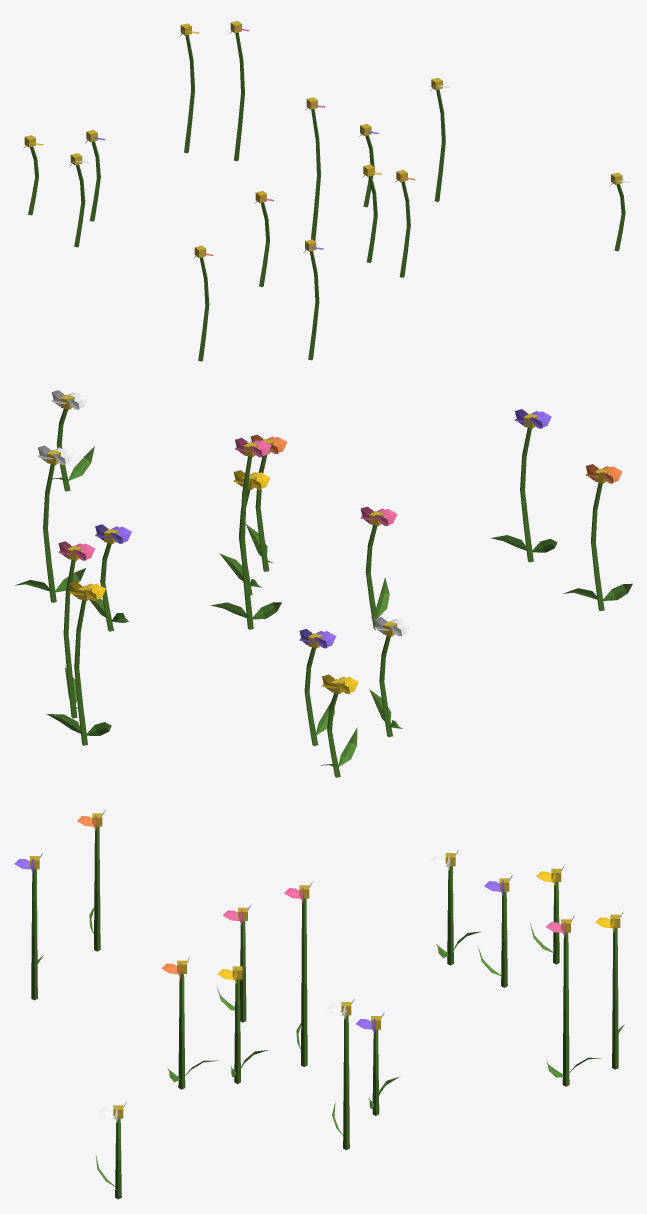
The model's file is flowers.glb.
3 renders of one model, top to bottom at view 1: azimuth 30°, elevation 25°; view 2: azimuth 150°, elevation 25°; view 3: azimuth 270°, elevation 25°, orthographic. The views are drawn at different scales.
Visible parts, largest first — view 1: flowers_stem, flowers_petal; view 2: flowers_stem, flowers_petal, flowers_leaf; view 3: flowers_stem, flowers_petal, flowers_leaf.
Boxes of the visible parts, x1,y1,x2,y2 form: flowers_stem: (24,21,625,361); flowers_petal: (23,27,629,258); flowers_stem: (43,394,608,777); flowers_petal: (38,390,622,693); flowers_leaf: (15,446,632,767); flowers_stem: (29,813,620,1199); flowers_petal: (14,809,623,1122); flowers_leaf: (37,907,624,1186).
Size of the model in its own units: 1.34 by 0.421 by 1.29.
